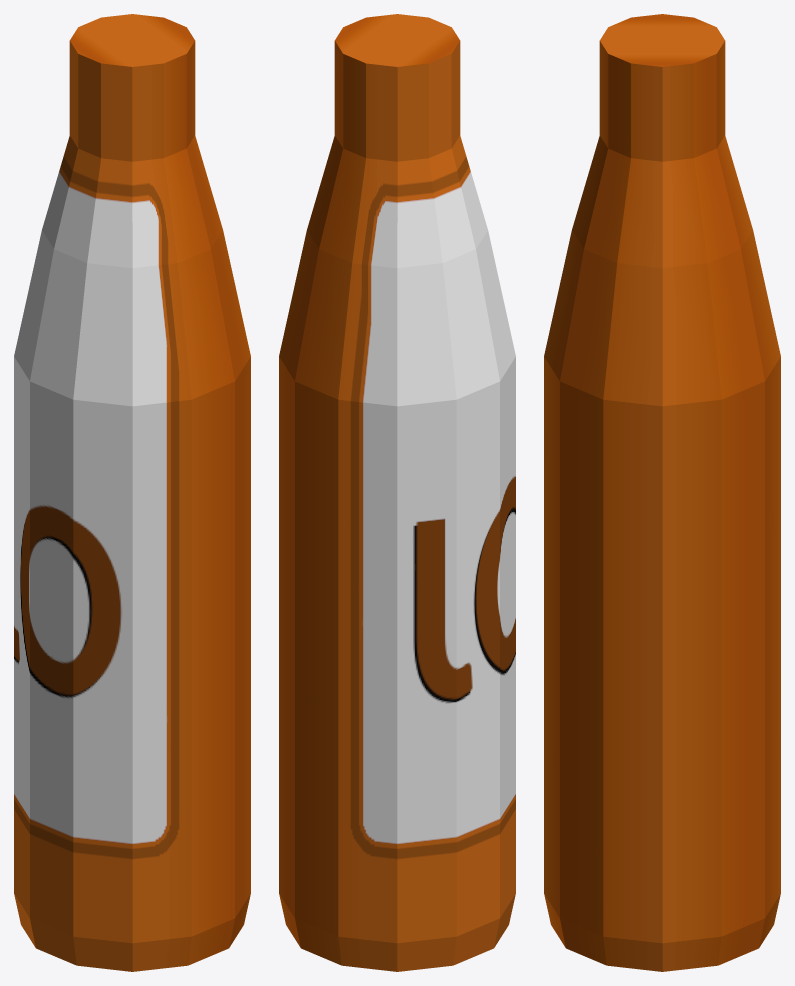
The model's file is fridge_oj.obj.
The picture shows the model from 3 angles, left to right: view 1: azimuth 30°, elevation 25°; view 2: azimuth 150°, elevation 25°; view 3: azimuth 270°, elevation 25°; orthographic projection.
Visible parts, largest first — view 1: fridge_oj; view 2: fridge_oj; view 3: fridge_oj.
Part boxes in pixels (x1=…): fridge_oj: x1=14, y1=14, x2=250, y2=971; fridge_oj: x1=279, y1=14, x2=515, y2=971; fridge_oj: x1=544, y1=14, x2=780, y2=971.
Bounding box in the file's own units: 0.068 × 0.28 × 0.068.
1 material, 1 textured.
